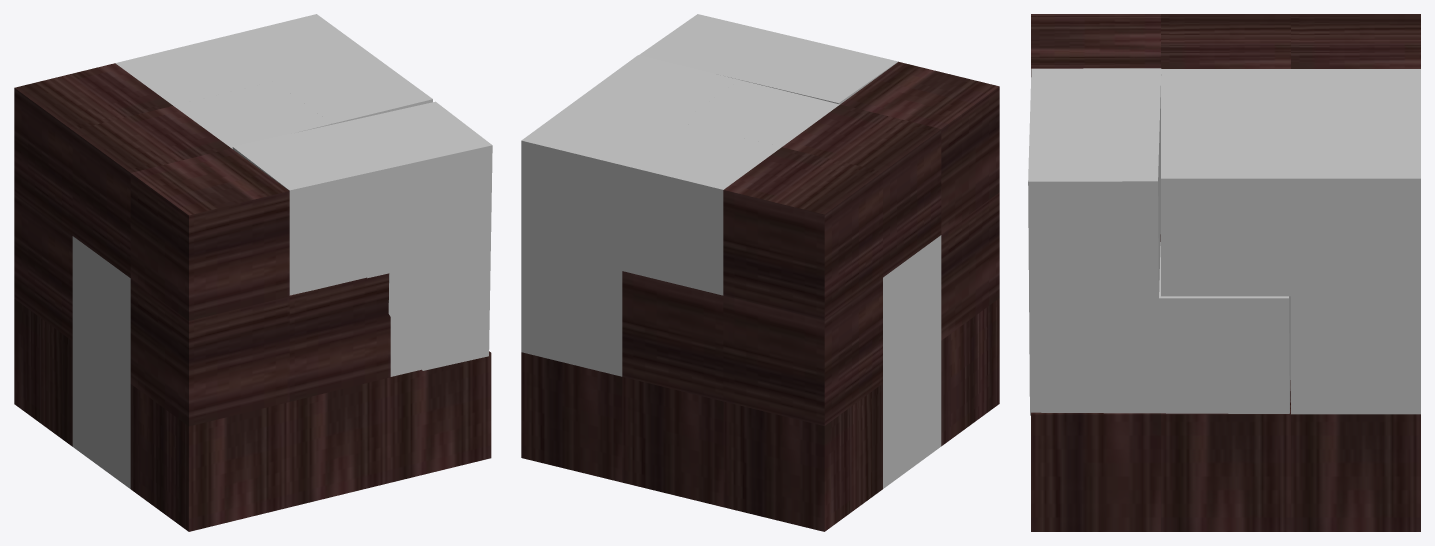
Rendered from Wooden shade bright and dark.dae.
3 renders of one model, left to right at view 1: azimuth 30°, elevation 25°; view 2: azimuth 150°, elevation 25°; view 3: azimuth 270°, elevation 25°, orthographic. The views are drawn at different scales.
Visible parts, largest first — view 1: Small L, Left Shoulder, T shape, Rightshoulder, Red arm, corner cube, L shape; view 2: Rightshoulder, corner cube, L shape, Red arm, Small L, Left Shoulder, T shape; view 3: corner cube, Left Shoulder, L shape, T shape, Rightshoulder, Small L, Red arm.
Boxes of the visible parts, <box> form: Small L: <box>130,148,390,426</box>; Left Shoulder: <box>232,101,492,376</box>; T shape: <box>130,351,491,531</box>; Rightshoulder: <box>14,63,230,340</box>; Red arm: <box>72,81,332,488</box>; corner cube: <box>115,14,432,124</box>; L shape: <box>14,299,72,446</box>; Rightshoulder: <box>622,104,941,425</box>; corner cube: <box>521,55,781,376</box>; L shape: <box>521,352,882,531</box>; Red arm: <box>681,80,941,488</box>; Small L: <box>840,61,999,340</box>; Left Shoulder: <box>639,14,898,104</box>; T shape: <box>941,298,999,446</box>; corner cube: <box>1161,69,1420,414</box>; Left Shoulder: <box>1028,68,1290,415</box>; L shape: <box>1161,380,1420,531</box>; T shape: <box>1031,412,1160,531</box>; Rightshoulder: <box>1161,14,1420,68</box>; Small L: <box>1031,14,1160,241</box>; Red arm: <box>1161,69,1290,123</box>.
Bounding box in the file's own units: 6.03 × 6.05 × 6.02.
